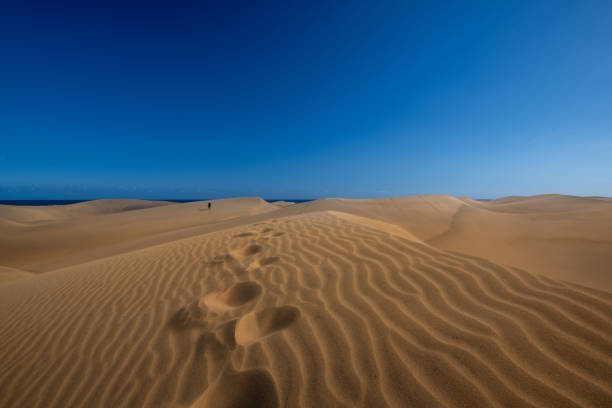human_footprint: (0, 201, 611, 406), (169, 280, 300, 406), (183, 306, 299, 407), (169, 281, 261, 405), (170, 244, 279, 328), (171, 281, 299, 344), (168, 280, 262, 332), (168, 281, 261, 331), (168, 281, 261, 330), (170, 280, 262, 329), (179, 331, 235, 404), (192, 365, 278, 407), (204, 231, 279, 271), (203, 242, 280, 279), (231, 244, 282, 295), (235, 306, 301, 345), (215, 244, 280, 277), (225, 242, 281, 280), (202, 242, 263, 275), (242, 251, 285, 296), (203, 281, 261, 310), (203, 240, 263, 266), (231, 243, 279, 269), (217, 281, 262, 306), (168, 302, 207, 330), (232, 222, 283, 243), (203, 253, 245, 277), (233, 223, 283, 239), (215, 319, 237, 348), (202, 253, 236, 267), (232, 244, 262, 257), (248, 256, 279, 268), (232, 226, 260, 238), (259, 227, 283, 240), (259, 225, 283, 238), (265, 221, 284, 236), (213, 253, 238, 264), (259, 220, 279, 233), (202, 256, 224, 266), (254, 222, 272, 234), (258, 256, 279, 265), (232, 266, 247, 278), (233, 232, 254, 237), (260, 227, 272, 233), (259, 235, 269, 242), (272, 231, 283, 236)
